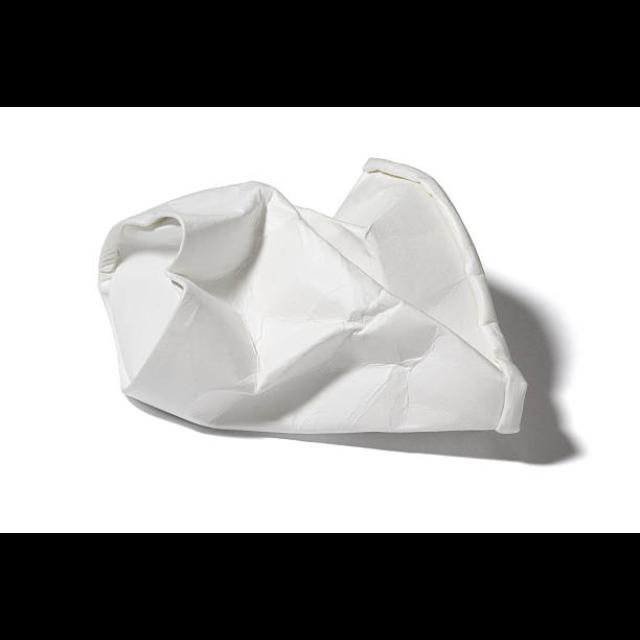trash: (94, 156, 526, 437)
